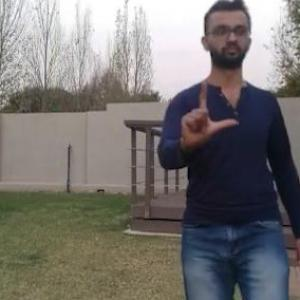land_hand: (169, 82, 232, 158)
